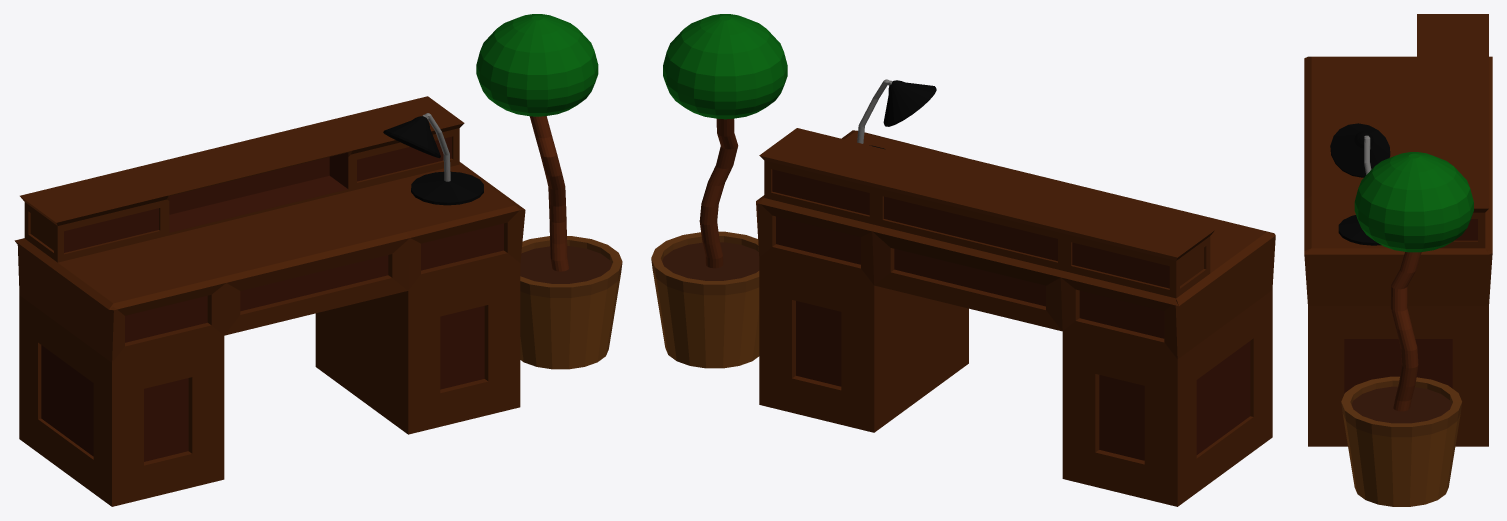
The model's file is DeskandPlant 1.fbx.
3 renders of one model, left to right at view 1: azimuth 30°, elevation 25°; view 2: azimuth 150°, elevation 25°; view 3: azimuth 270°, elevation 25°, orthographic. The views are drawn at different scales.
Parts seen in each view (by area): view 1: Cube; view 2: Cube; view 3: Cube.
Part boxes in pixels (x1,y1,x2,y2): Cube: [14, 14, 622, 506]; Cube: [651, 14, 1275, 506]; Cube: [1304, 14, 1492, 506].
Size of the model in its own units: 345 by 198 by 104.
